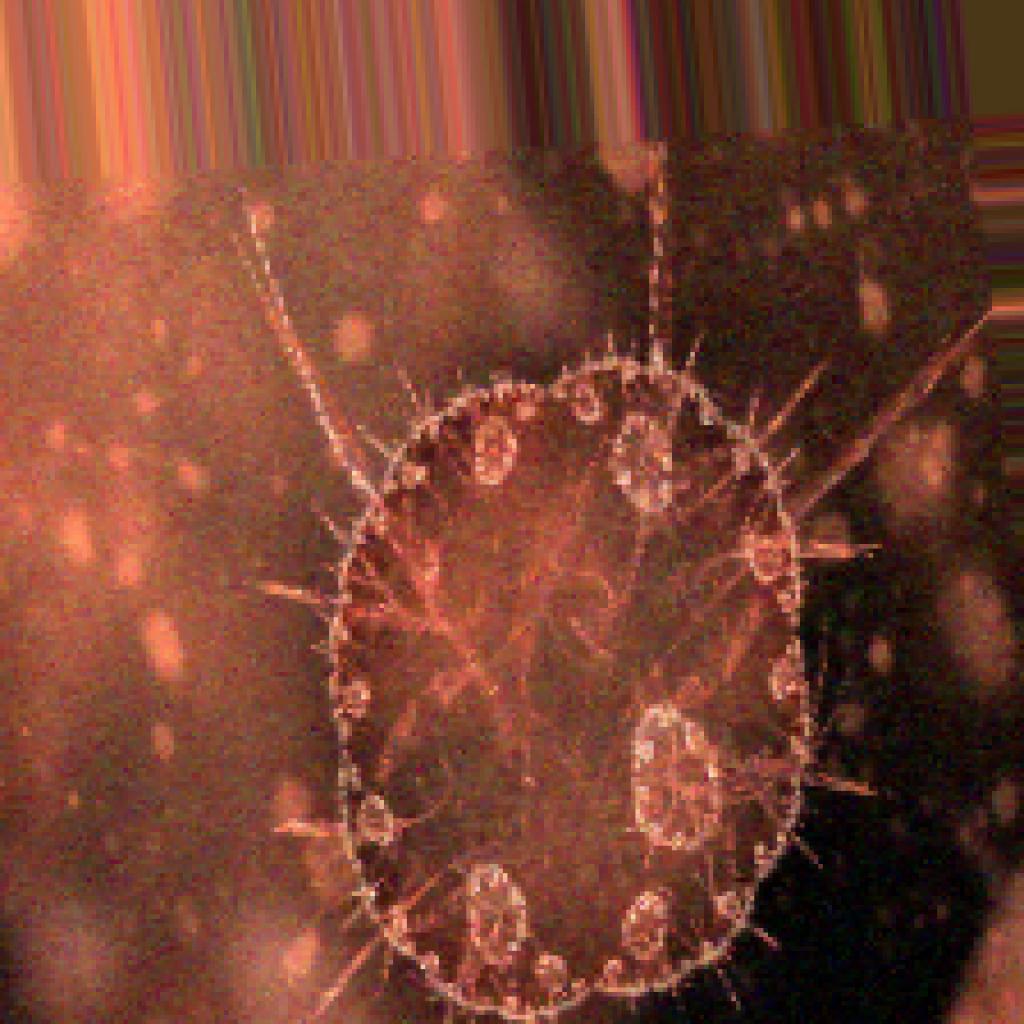Amoeba: (196, 158, 1016, 1024)
